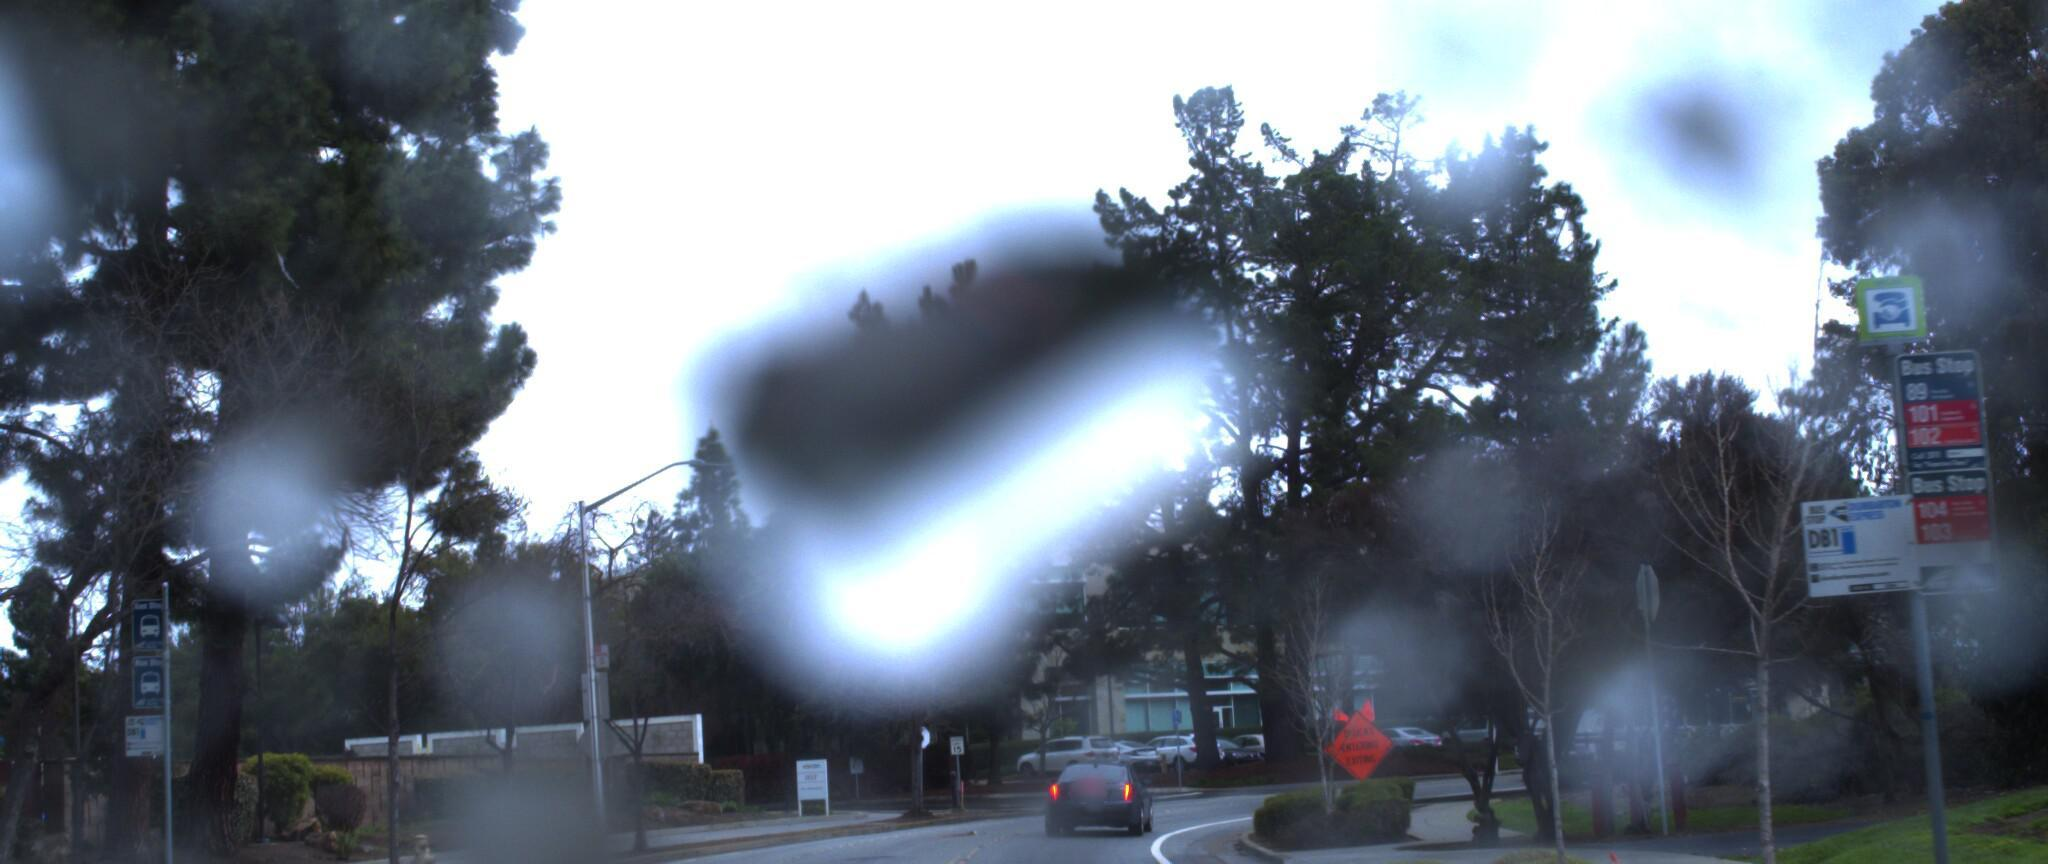car: (1034, 764, 1157, 860)
